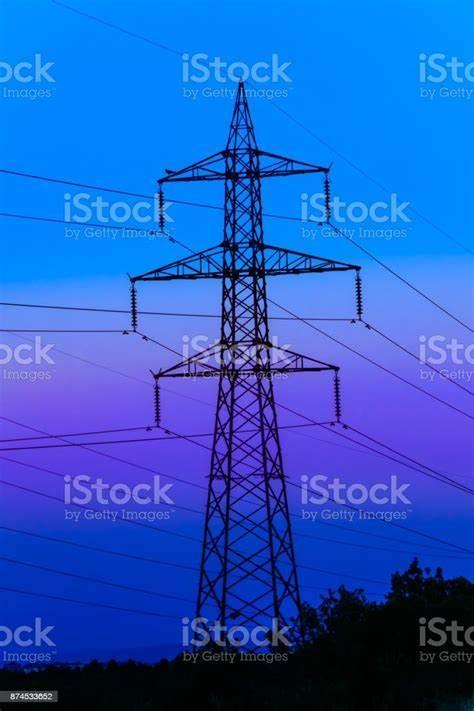power_tower: (122, 75, 370, 656)
